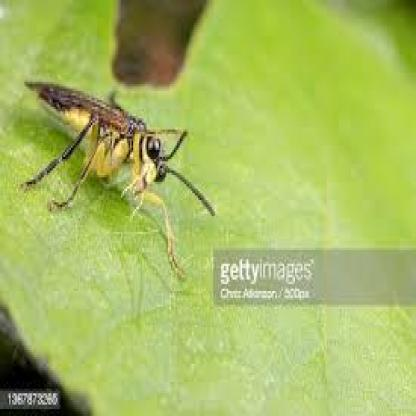sawfly: (16, 74, 216, 274)
